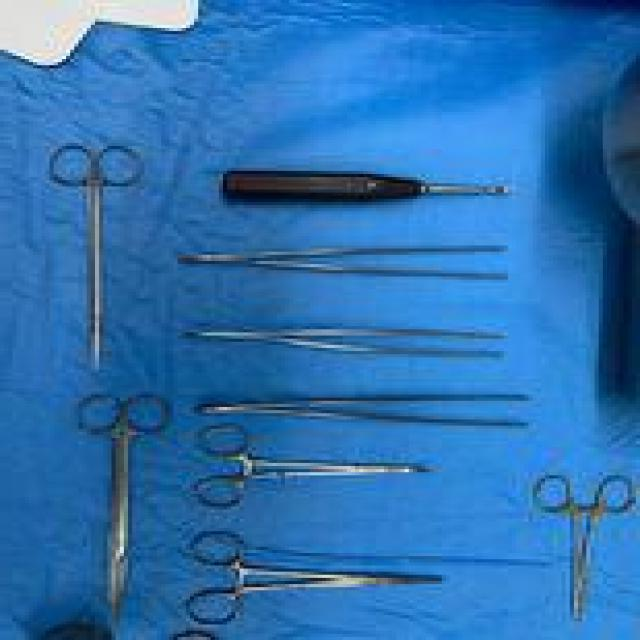Forceps: (190, 388, 533, 429), (173, 242, 508, 283), (182, 322, 508, 360)
Hemostat: (182, 528, 446, 628), (190, 420, 433, 510), (528, 472, 636, 624)
Mayo_metz: (41, 140, 149, 373), (70, 388, 174, 624)
